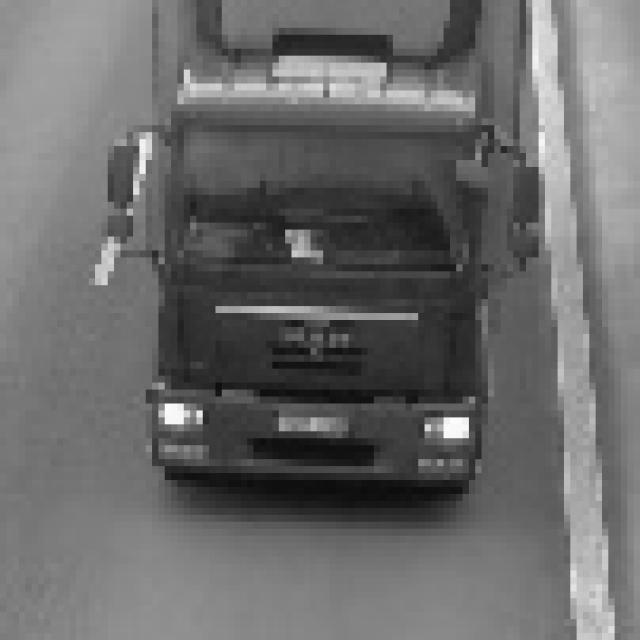truck: (103, 1, 540, 502)
